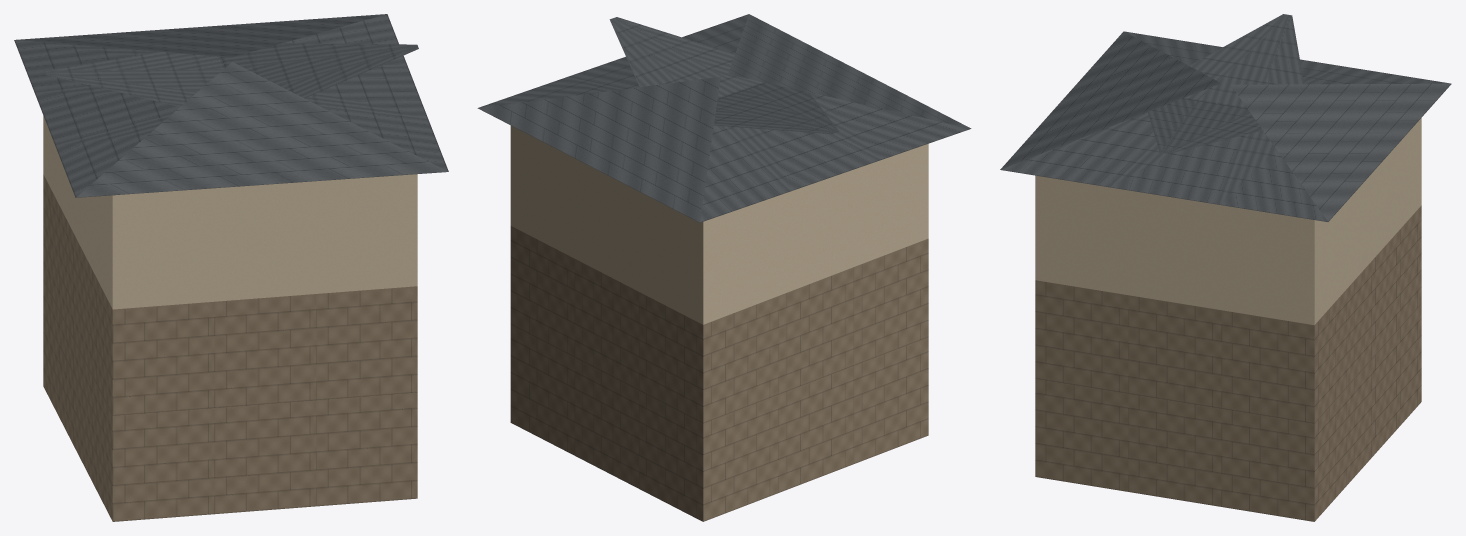
File: bld_c-17_18_503.gltf
The picture shows the model from 3 angles, left to right: view 1: azimuth 30°, elevation 25°; view 2: azimuth 150°, elevation 25°; view 3: azimuth 270°, elevation 25°; orthographic projection. The views are drawn at different scales.
Visible parts, largest first — view 1: bld_c-17_18_503; view 2: bld_c-17_18_503; view 3: bld_c-17_18_503.
Boxes of the visible parts, x1,y1,x2,y2 form: bld_c-17_18_503: (14, 14, 448, 521); bld_c-17_18_503: (477, 14, 971, 521); bld_c-17_18_503: (1000, 14, 1451, 521).
Size of the model in its own units: 9.56 by 8.3 by 9.56.
Materials: 3 (3 with a texture image).
